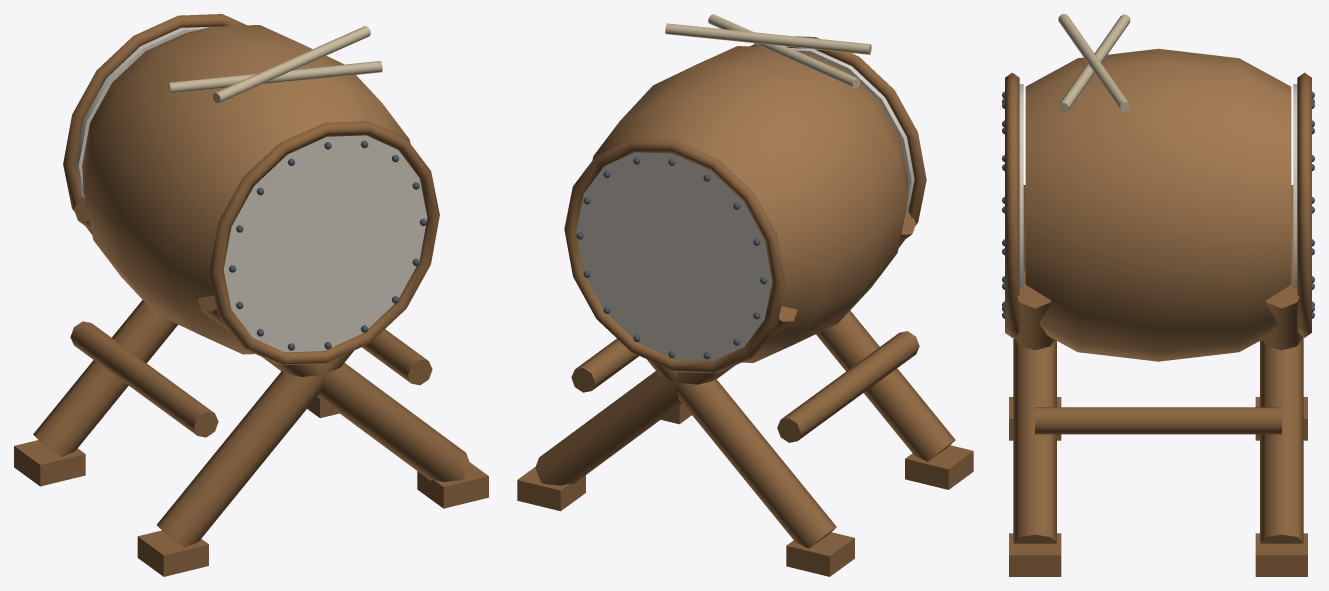
The model's file is komachi-taiko.glb.
The picture shows the model from 3 angles, left to right: view 1: azimuth 30°, elevation 25°; view 2: azimuth 150°, elevation 25°; view 3: azimuth 270°, elevation 25°; orthographic projection. The views are drawn at different scales.
Parts seen in each view (by area): view 1: Taiko_Drum_And_Stand; view 2: Taiko_Drum_And_Stand; view 3: Taiko_Drum_And_Stand.
Boxes of the visible parts, x1=… form: Taiko_Drum_And_Stand: x1=14, y1=14, x2=488, y2=576; Taiko_Drum_And_Stand: x1=517, y1=14, x2=973, y2=576; Taiko_Drum_And_Stand: x1=1002, y1=14, x2=1314, y2=576.
Size of the model in its own units: 0.395 by 0.5158 by 0.3296.
